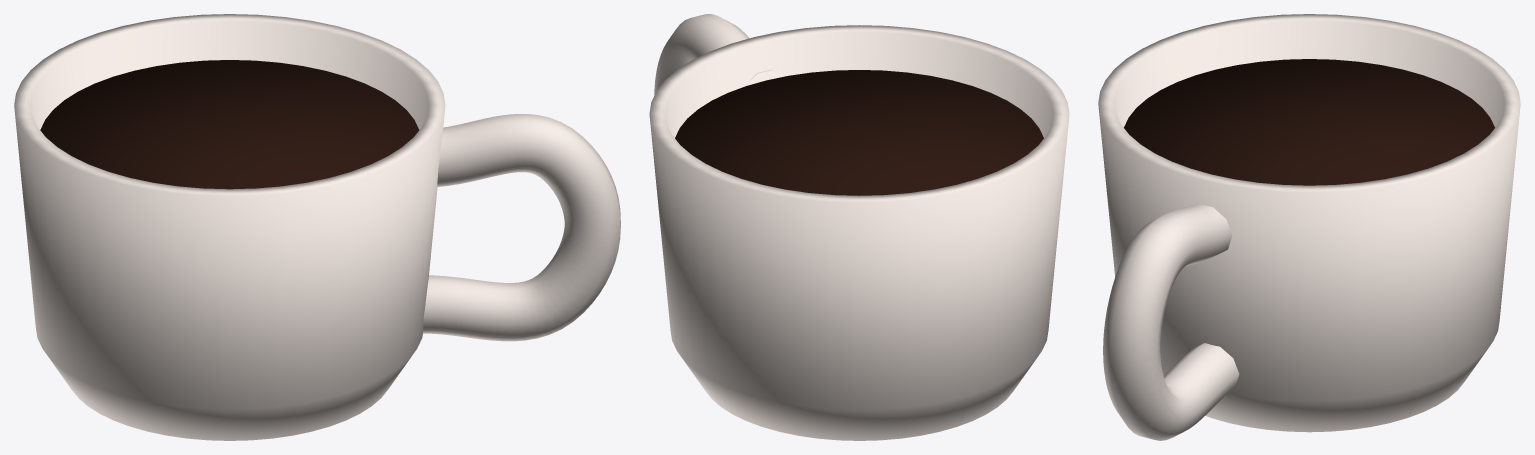
File: MenuHotAmericano_001.fbx
3 views of the same model, side by side, from view 1: azimuth 30°, elevation 25°; view 2: azimuth 150°, elevation 25°; view 3: azimuth 270°, elevation 25° (orthographic). The views are drawn at different scales.
Parts seen in each view (by area): view 1: Menu_HotAmericano.002; view 2: Menu_HotAmericano.002; view 3: Menu_HotAmericano.002.
Part boxes in pixels (x1,y1,x2,y2): Menu_HotAmericano.002: [14, 14, 620, 440]; Menu_HotAmericano.002: [649, 14, 1069, 440]; Menu_HotAmericano.002: [1098, 14, 1520, 440].
Size of the model in its own units: 64.01 by 33.69 by 49.41.
